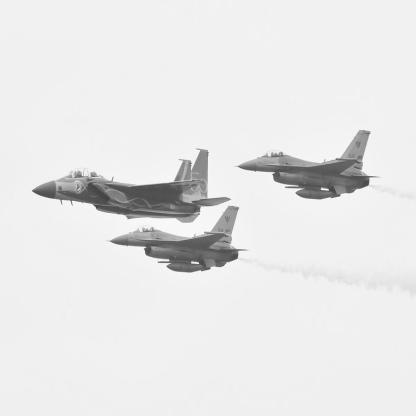F15: (33, 148, 232, 224)
F16: (234, 130, 383, 201), (106, 206, 251, 274)
